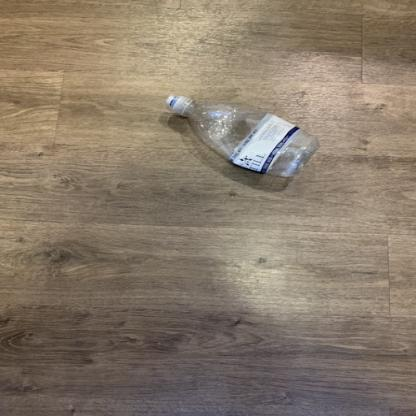trash: (164, 94, 320, 180)
